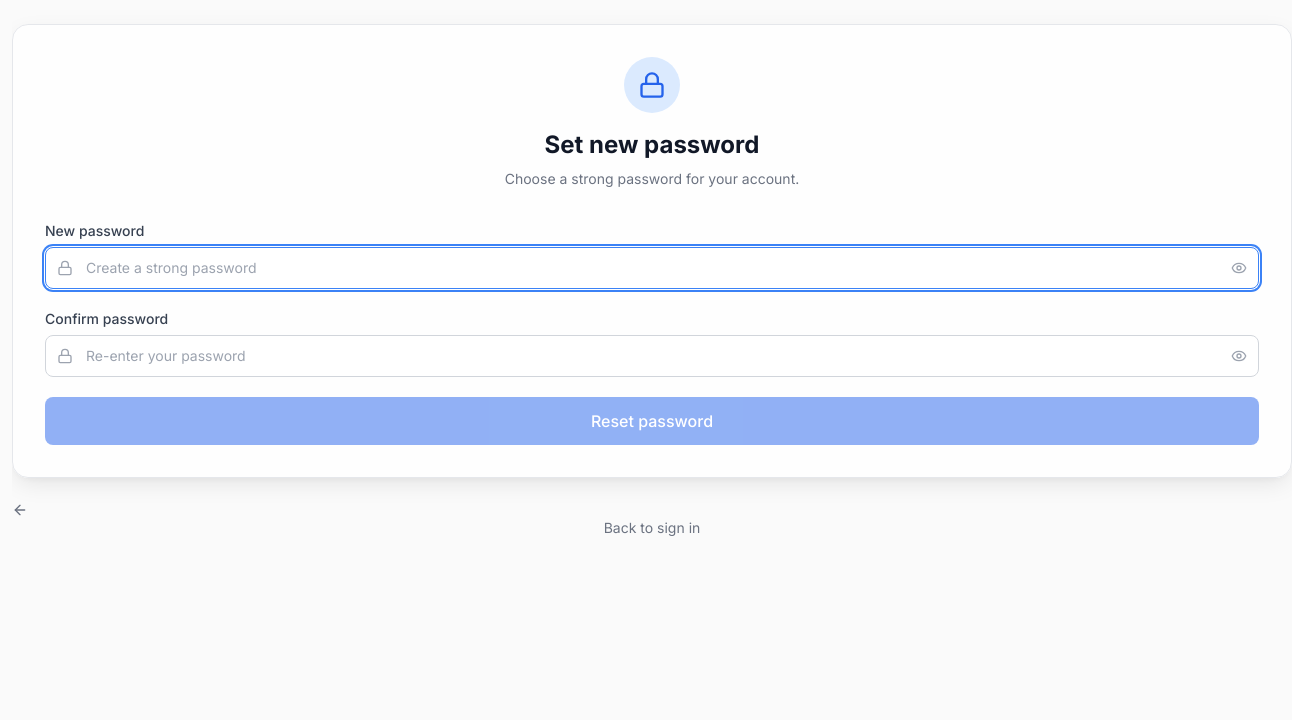
Test: ResetPasswordPage › shows mismatch error when passwords don't match
The image size is (1292, 720).
In the password field labelled "New password": (652, 268) x1=45 y1=247 x2=1259 y2=289, type "StrongPass1!"
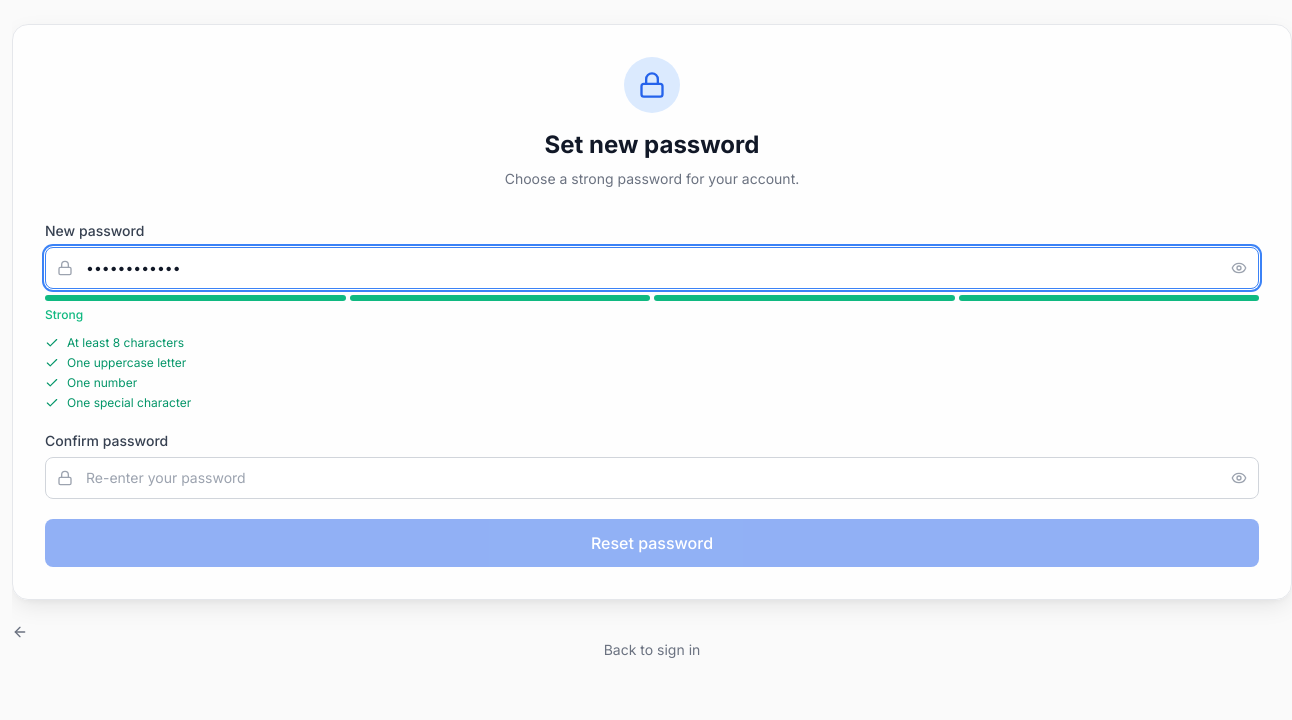
In the password field labelled "Confirm password": (652, 478) x1=45 y1=457 x2=1259 y2=499, type "Different1!"
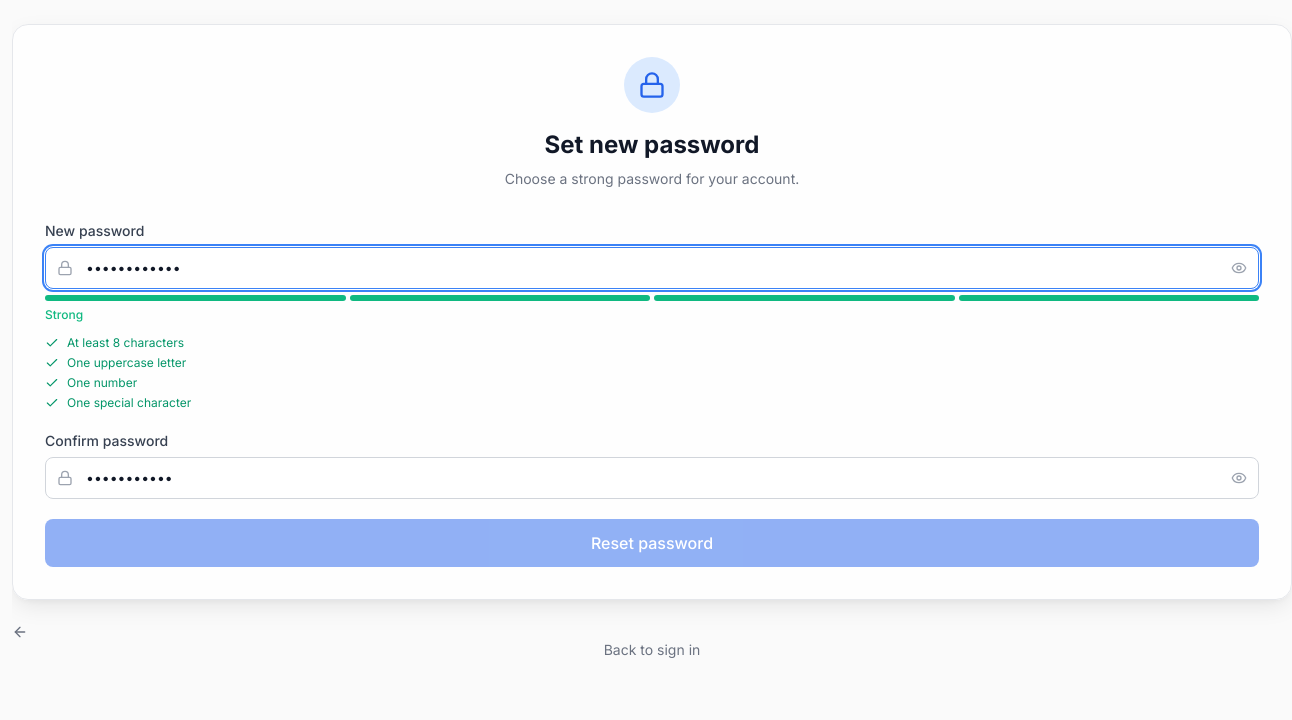
Leave the password field labelled "Confirm password", box x1=45 y1=457 x2=1259 y2=499
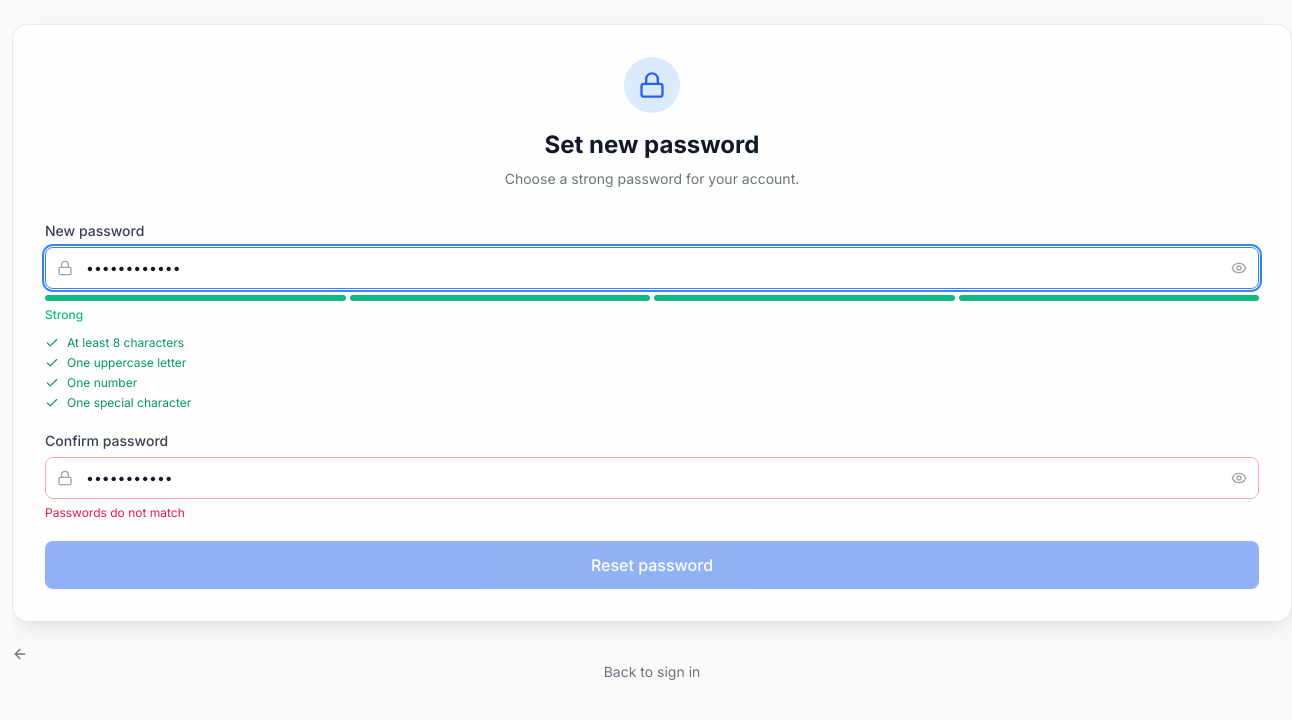
expect the text "Passwords do not match" is shown: met, box x1=45 y1=505 x2=185 y2=520
